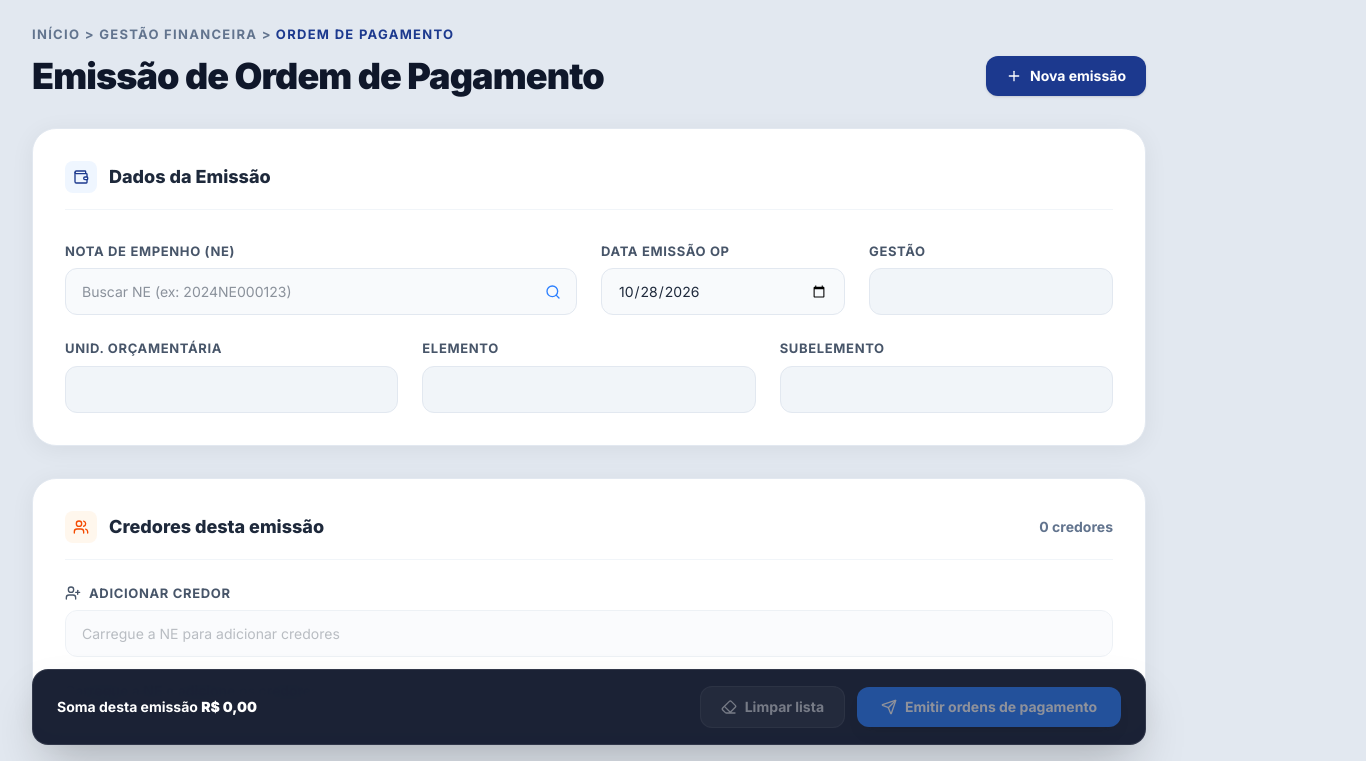
Test: Ordem de Pagamento — revisão da aba 4 › O6: "Nova emissão" › com credores na lista, pede confirmação; "Continuar" mantém tudo
The width and height of the screenshot is (1366, 761).
Type "2026NE000001" into the dropdown labelled "Nota de Empenho (NE)".
click(321, 292); type("2026NE000001")  # box [65, 268, 577, 315]
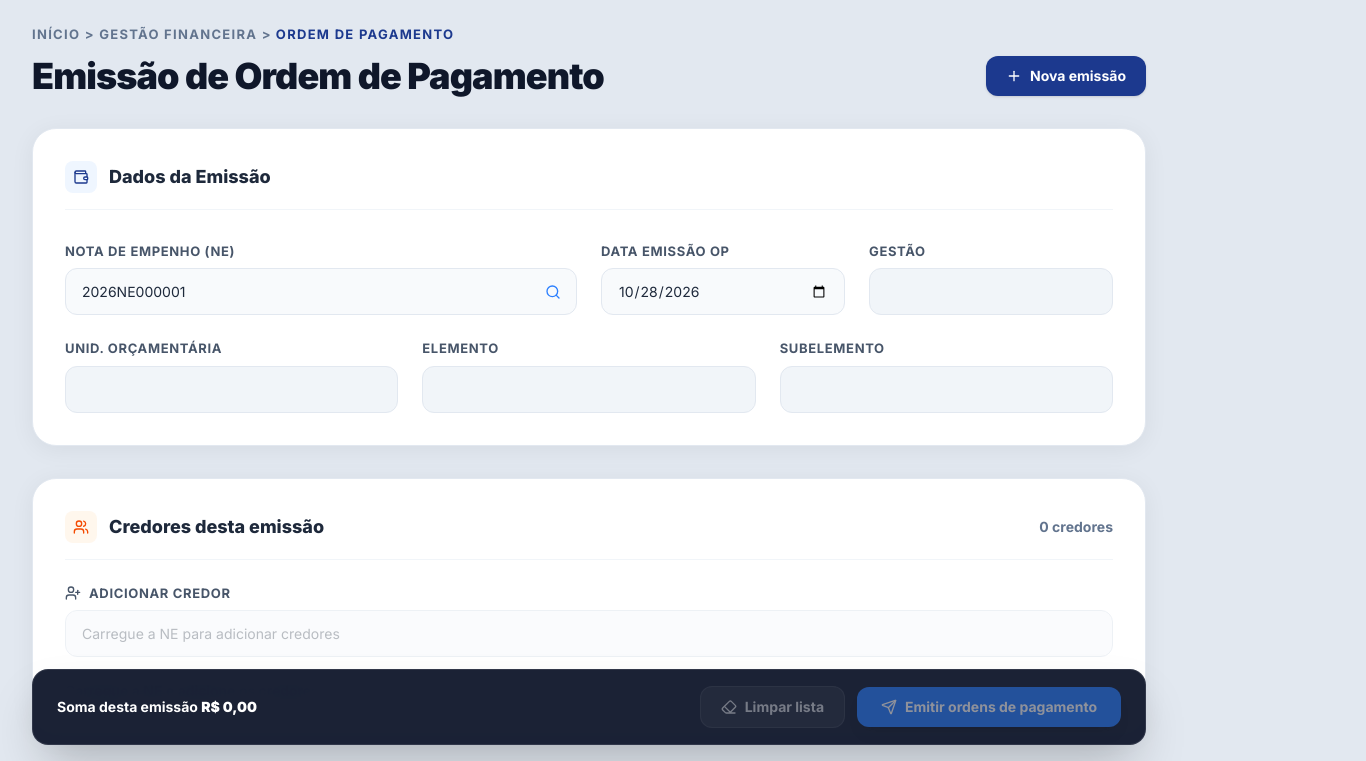
Click the button named "Carregar a NE".
click(553, 292)  # box [537, 276, 569, 308]
(page scrolled)
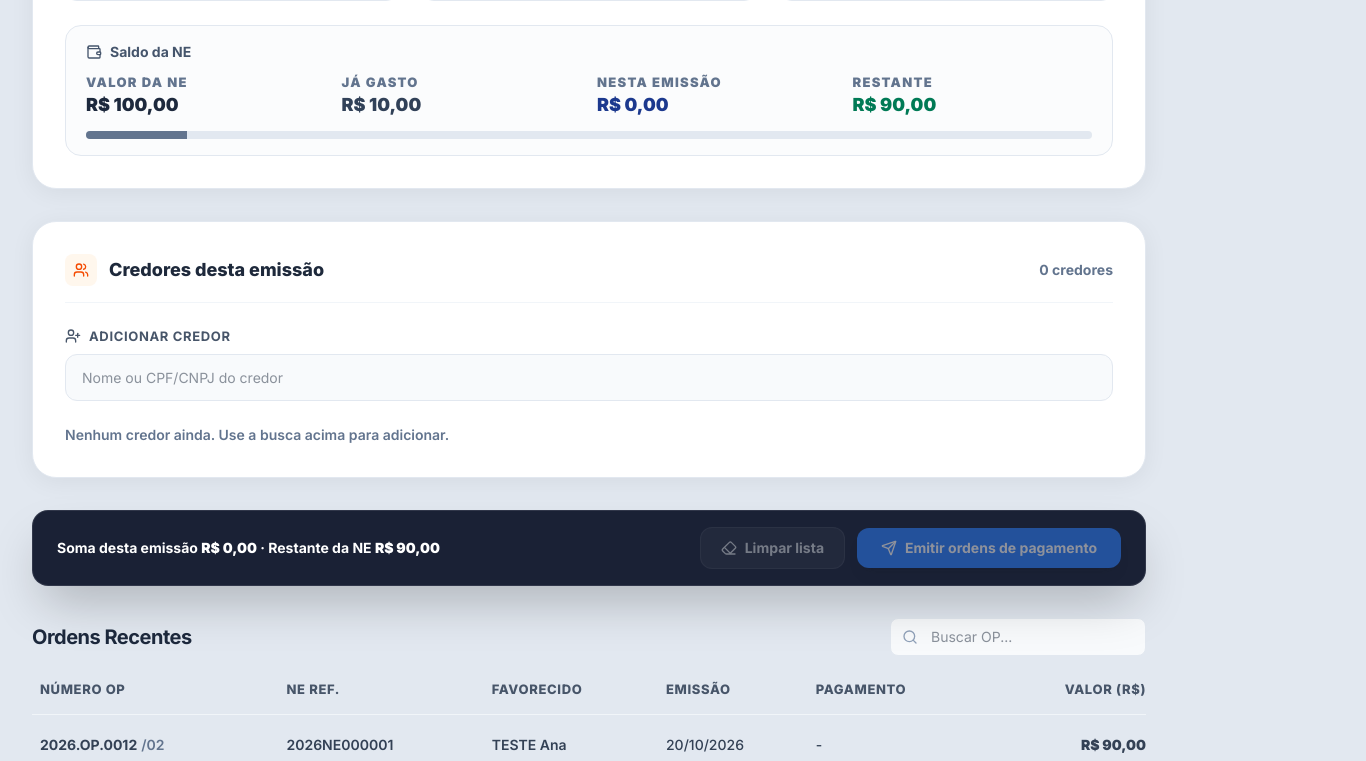
Now the element with test id "faixa-saldo-emissao" is shown, box [65, 25, 1113, 156]
Type "TESTE" into the dropdown labelled "Adicionar credor".
click(589, 377); type("TESTE")  # box [65, 354, 1113, 401]
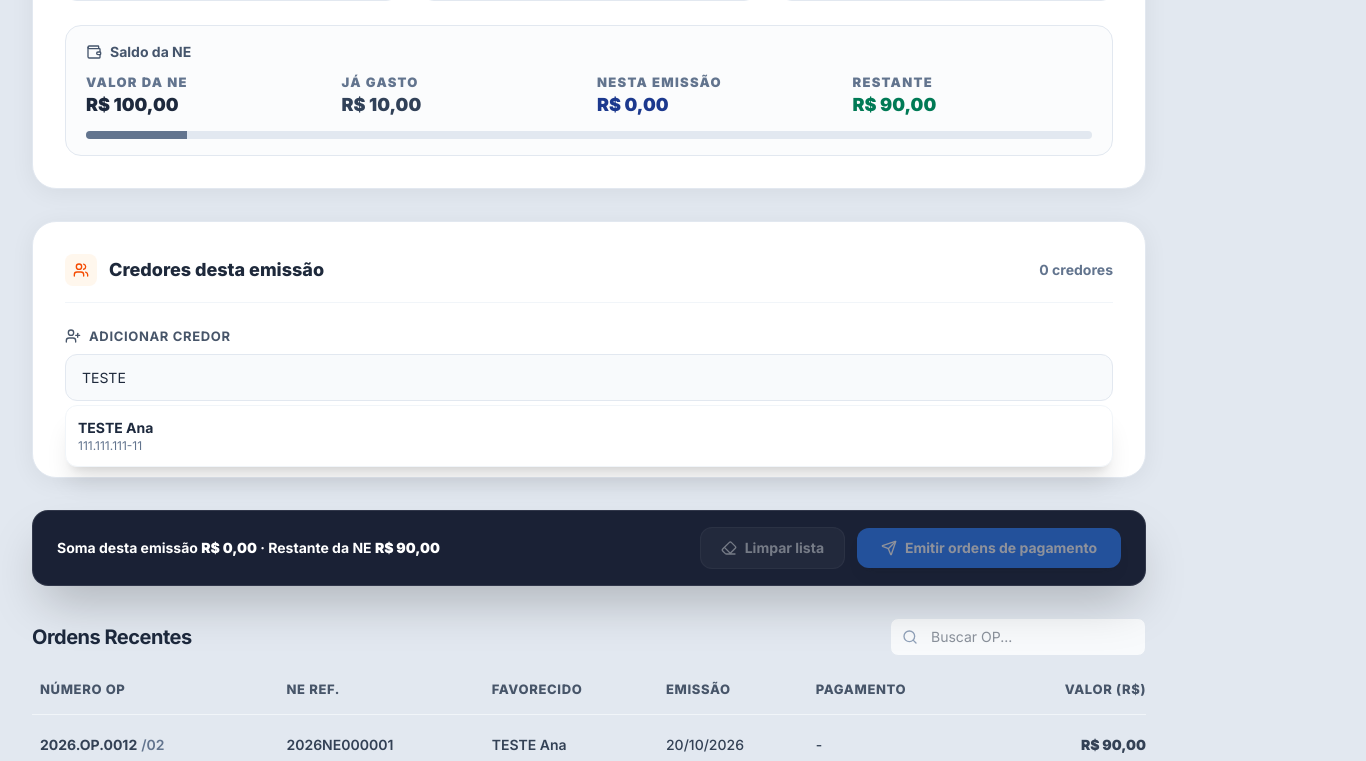
Press the mouse on the option "TESTE Ana 111.111.111-11" at (116, 436), box [78, 419, 153, 453]
(page scrolled)
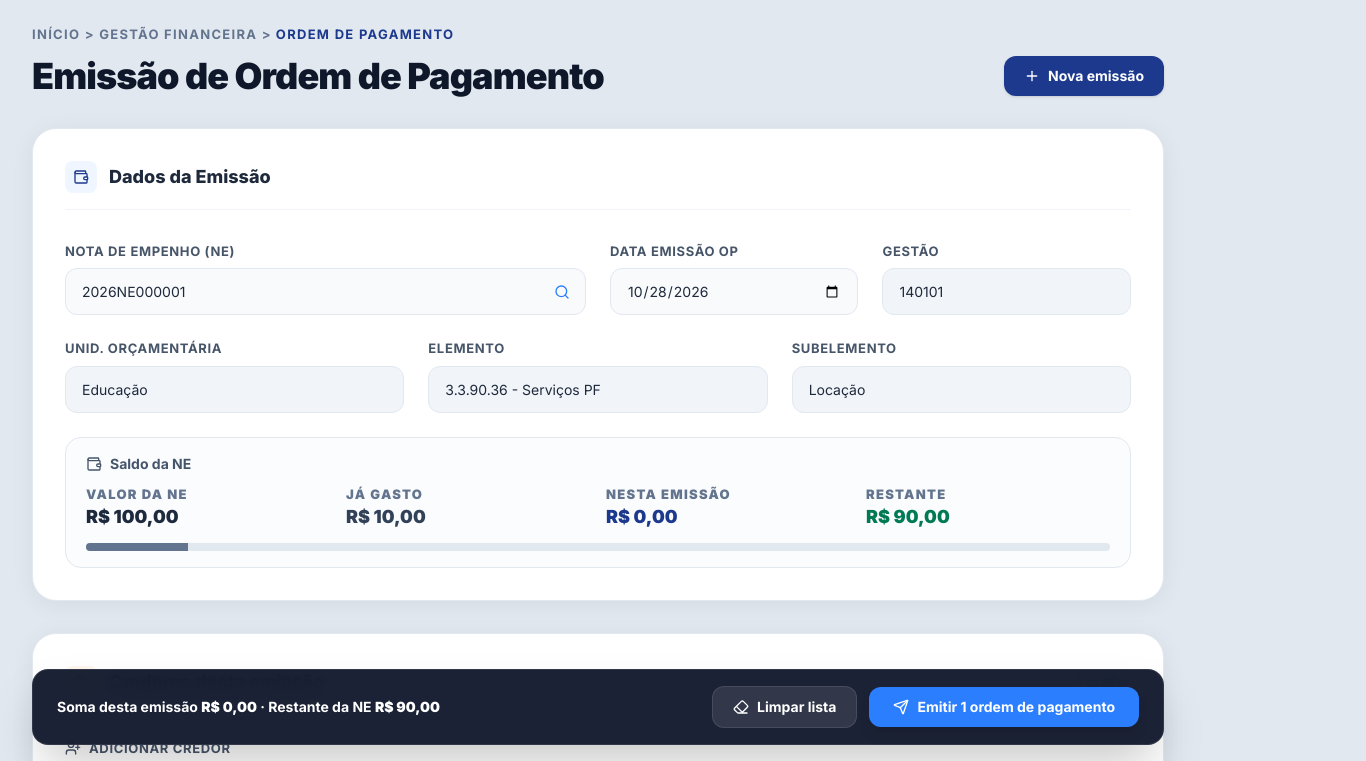
Click the button "Nova emissão".
click(1084, 76)  # box [1004, 56, 1164, 96]
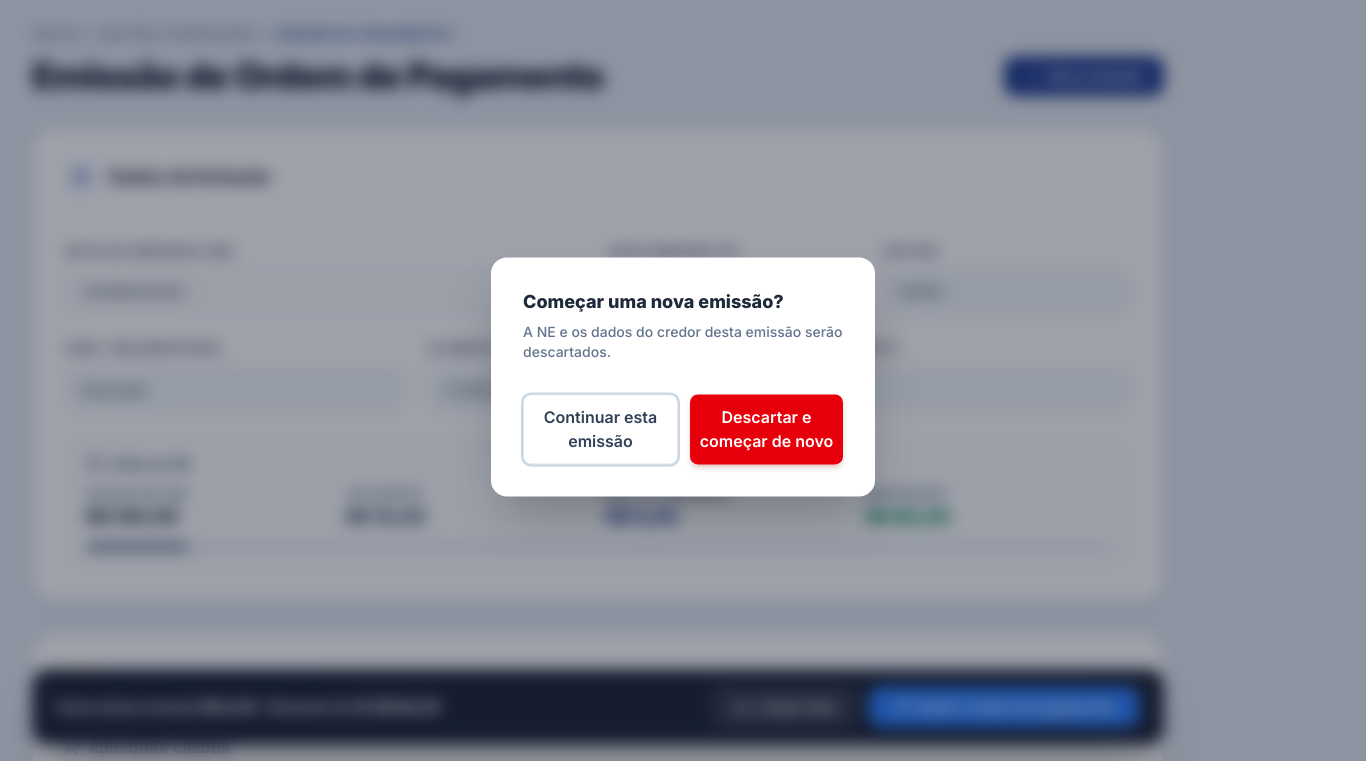
Click the button "Continuar esta emissão".
click(600, 430)  # box [523, 395, 678, 465]
(page scrolled)
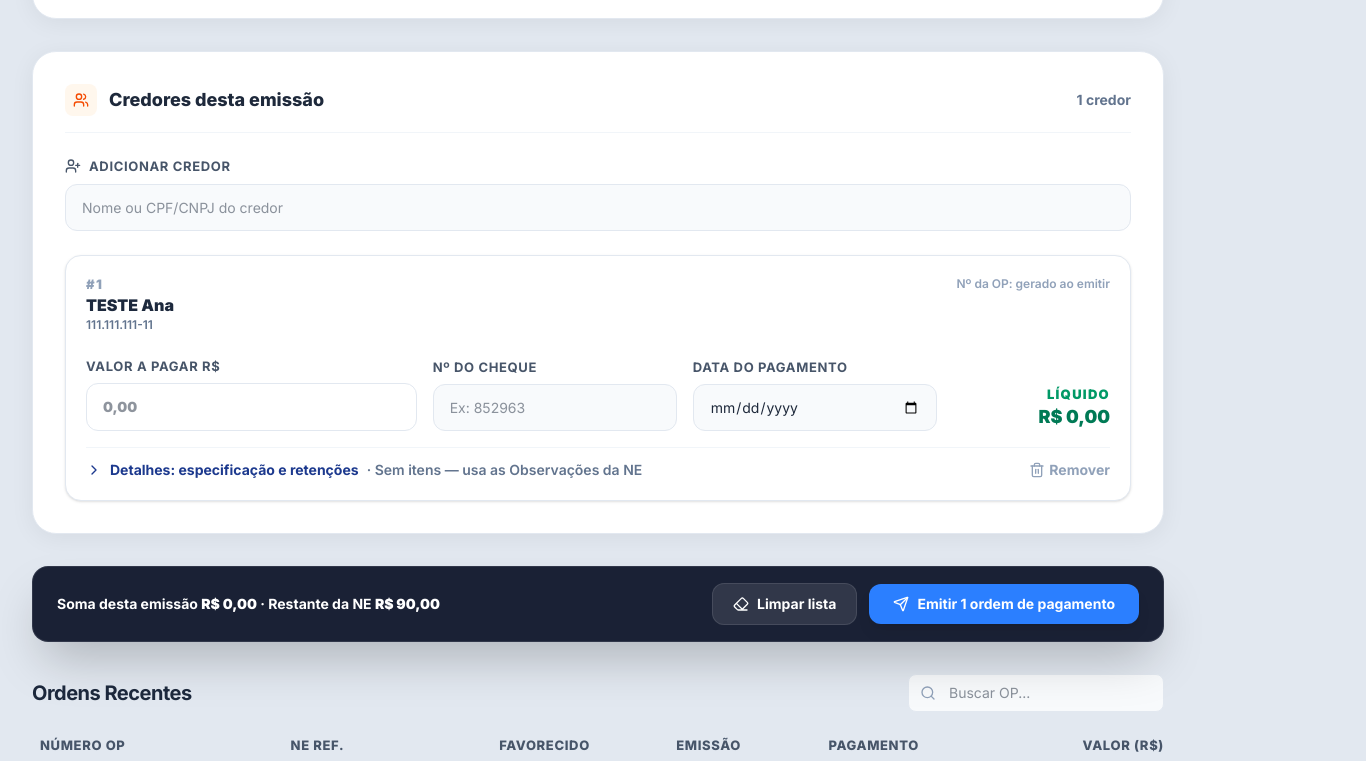
Now the element with test id "linha-credor-0" is shown, box [65, 255, 1131, 501]
Now the dialog is gone
